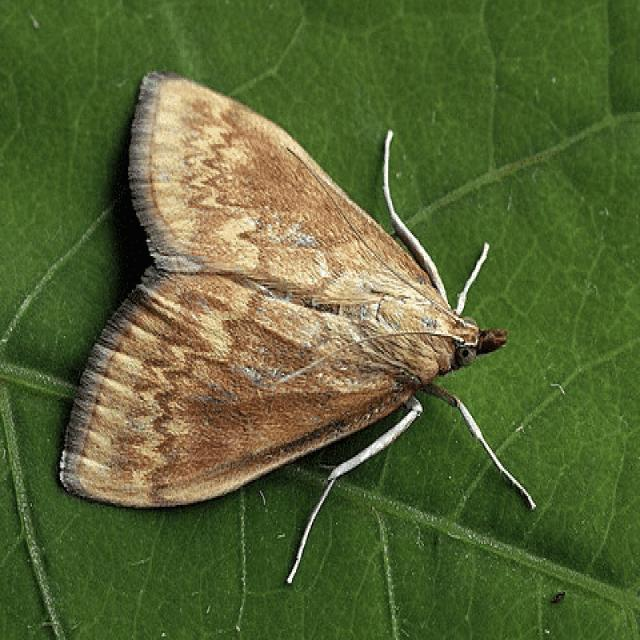cornborer-Adult-: (54, 53, 560, 569)
